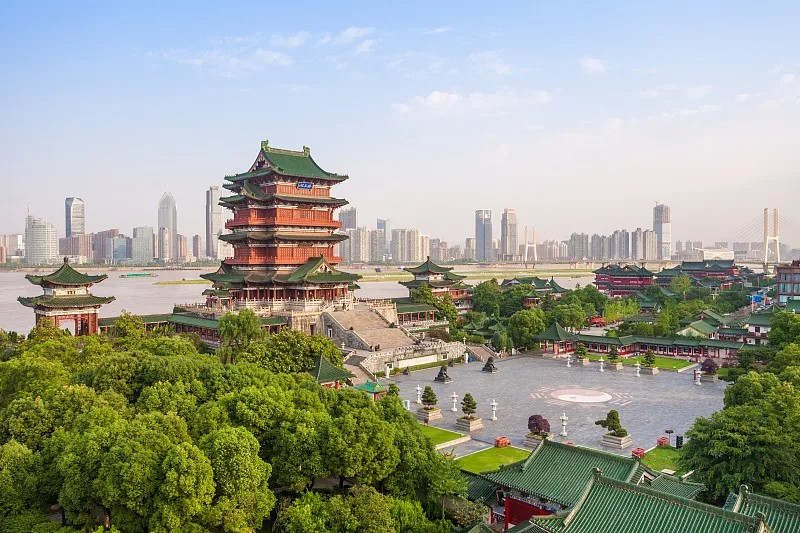Teng: (198, 139, 363, 301)
